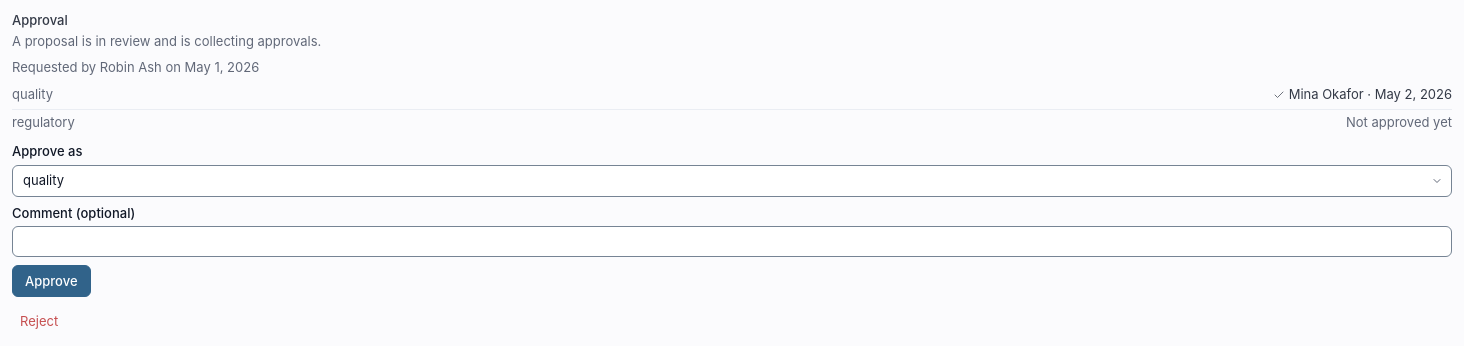
Test: governed sign-off section › keeps a final vote whose freeze failed as a recorded vote with an explicit retry
Expected: the list item with test id "governance-vote-quality" is shown, [12, 86, 1452, 102]
Type "all sections reviewed" into the field with test id "governance-comment".
click(732, 242); type("all sections reviewed")  # box [12, 226, 1452, 257]
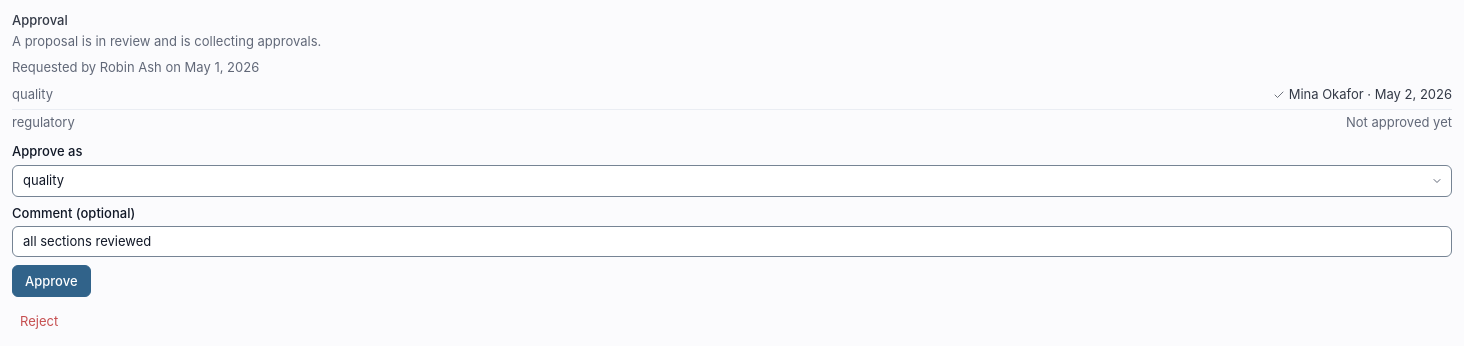
Click the button with test id "governance-approve-btn".
click(51, 281)  # box [12, 265, 90, 297]
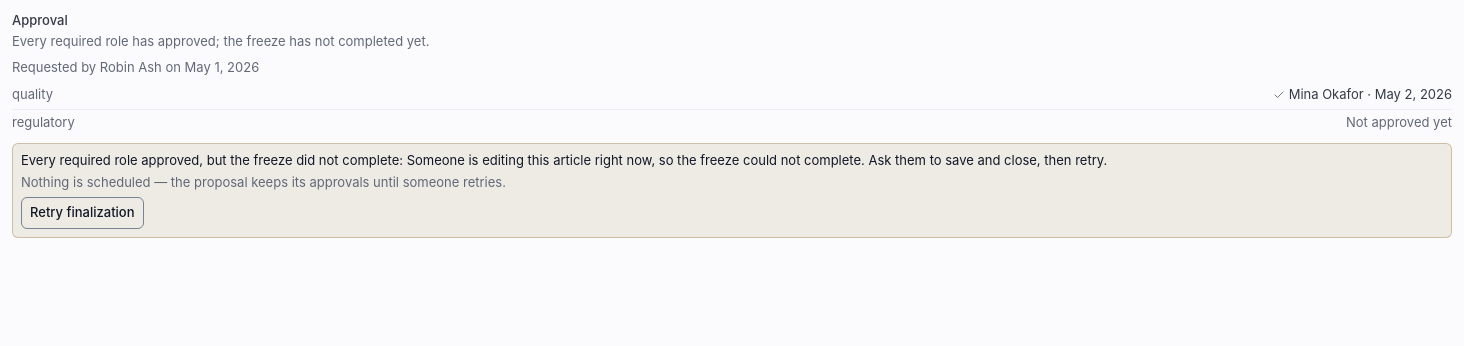
Expected: the message with test id "governance-finalize-error" shows "editing this article", [407, 152, 1107, 168]
Expected: the button with test id "governance-finalize-retry" is shown, [21, 197, 144, 229]
Expected: the button with test id "governance-approve-btn" is gone
